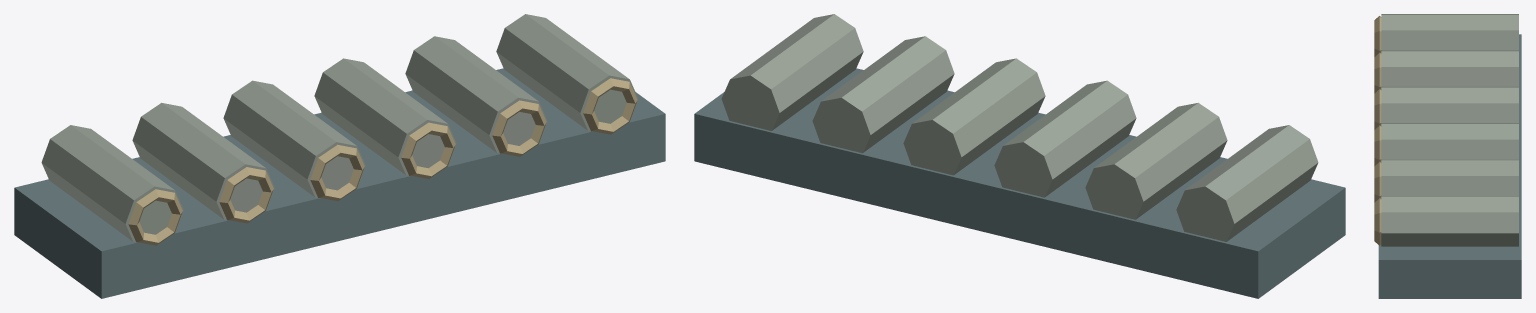
The model's file is map-exclusive-v3__iron_14.glb.
3 views of the same model, side by side, from view 1: azimuth 30°, elevation 25°; view 2: azimuth 150°, elevation 25°; view 3: azimuth 270°, elevation 25° (orthographic). The views are drawn at different scales.
Parts seen in each view (by area): view 1: iron_14; view 2: iron_14; view 3: iron_14.
Part boxes in pixels (x1=…): iron_14: x1=14, y1=14, x2=665, y2=298; iron_14: x1=694, y1=14, x2=1345, y2=298; iron_14: x1=1374, y1=14, x2=1521, y2=298.
Bounding box in the file's own units: 3.1 × 0.5151 × 0.8551.
